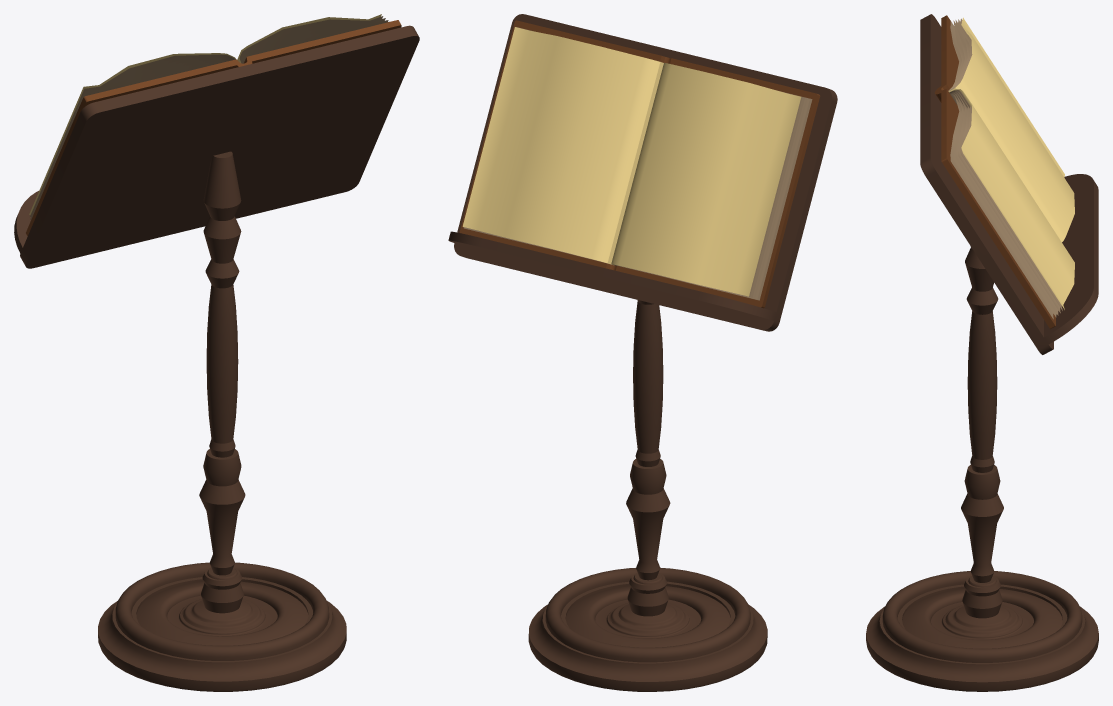
File: SM_BookPedestal.glb
3 views of the same model, side by side, from view 1: azimuth 30°, elevation 25°; view 2: azimuth 150°, elevation 25°; view 3: azimuth 270°, elevation 25° (orthographic). The views are drawn at different scales.
Parts seen in each view (by area): view 1: SM_BookPedestal; view 2: SM_BookPedestal; view 3: SM_BookPedestal.
Boxes of the visible parts, x1=… form: SM_BookPedestal: x1=14, y1=14, x2=419, y2=691; SM_BookPedestal: x1=448, y1=14, x2=837, y2=691; SM_BookPedestal: x1=866, y1=14, x2=1098, y2=691.
Bounding box in the file's own units: 0.9981 × 1.73 × 0.646.
